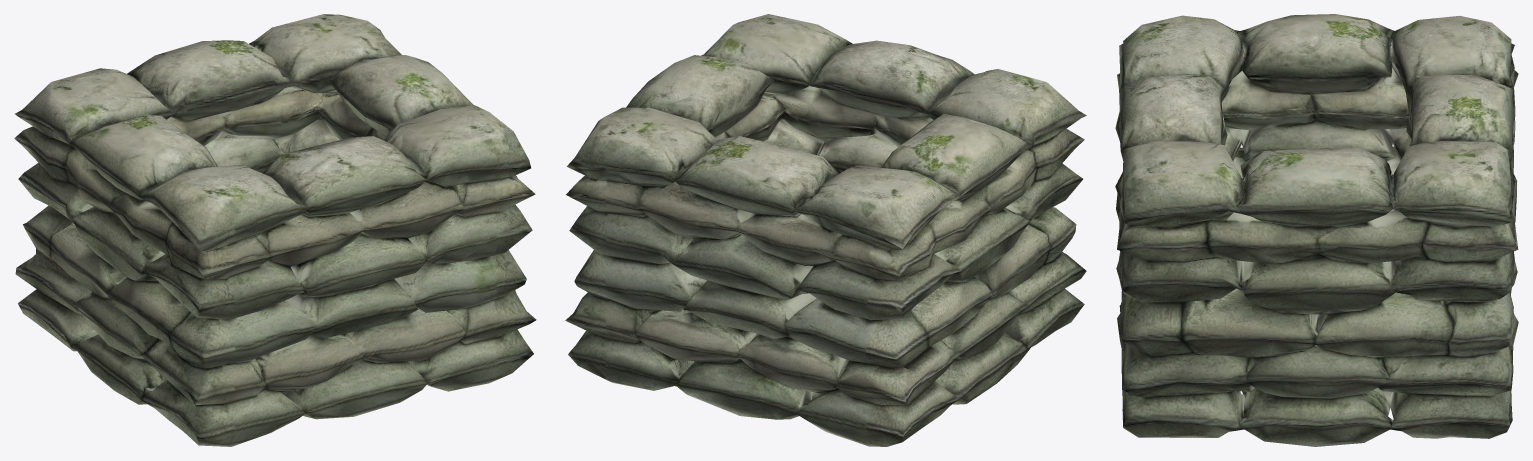
File: building_sandbag.glb
3 renders of one model, left to right at view 1: azimuth 30°, elevation 25°; view 2: azimuth 150°, elevation 25°; view 3: azimuth 270°, elevation 25°, orthographic. The views are drawn at different scales.
Visible parts, largest first — view 1: Mesh_0; view 2: Mesh_0; view 3: Mesh_0.
Part boxes in pixels (x1,y1,x2,y2): Mesh_0: (14, 14, 536, 446); Mesh_0: (565, 14, 1086, 446); Mesh_0: (1115, 14, 1518, 446).
Size of the model in its own units: 2.75 by 2 by 2.6.
1 material, 1 textured.
